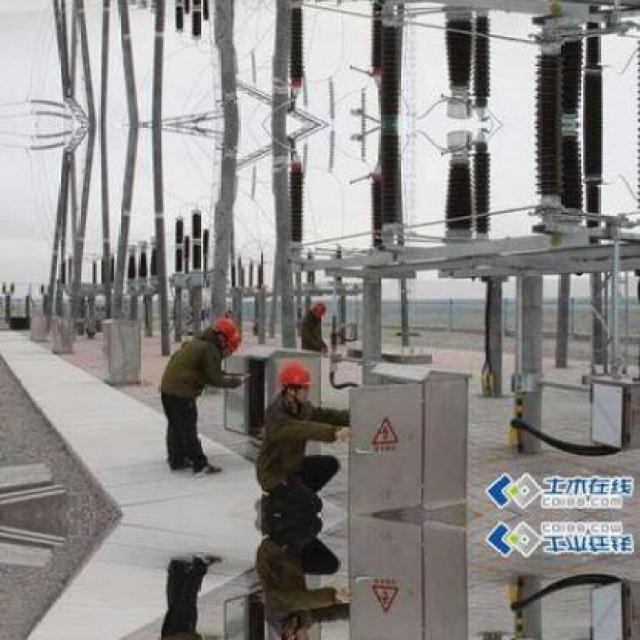helmet: (278, 358, 313, 402), (206, 316, 243, 355), (277, 624, 314, 637), (309, 298, 325, 317)
